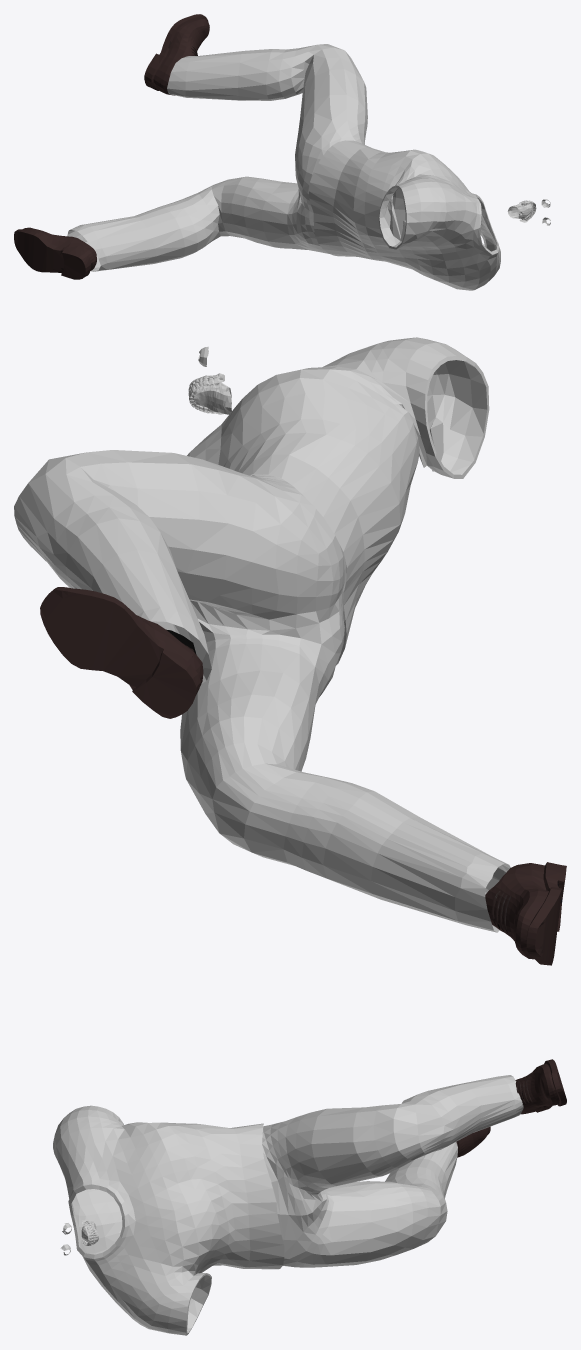
File: Enforcer.obj
The picture shows the model from 3 angles, top to bottom: view 1: azimuth 30°, elevation 25°; view 2: azimuth 150°, elevation 25°; view 3: azimuth 270°, elevation 25°; orthographic projection. The views are drawn at different scales.
Parts seen in each view (by area): view 1: male_muscle_13290.obj; view 2: male_muscle_13290.obj; view 3: male_muscle_13290.obj.
Boxes of the visible parts, left/top/right/bottom form: male_muscle_13290.obj: left=14, top=14, right=550, bottom=290; male_muscle_13290.obj: left=14, top=337, right=566, bottom=965; male_muscle_13290.obj: left=53, top=1059, right=566, bottom=1335.
Size of the model in its own units: 12.05 by 6.67 by 13.72.
